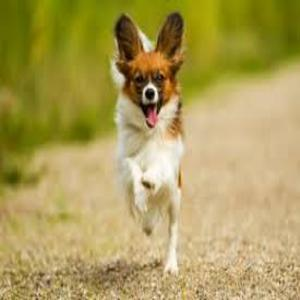yell: (109, 10, 186, 276)
